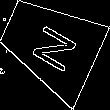N_NW: (23, 15, 78, 74)
